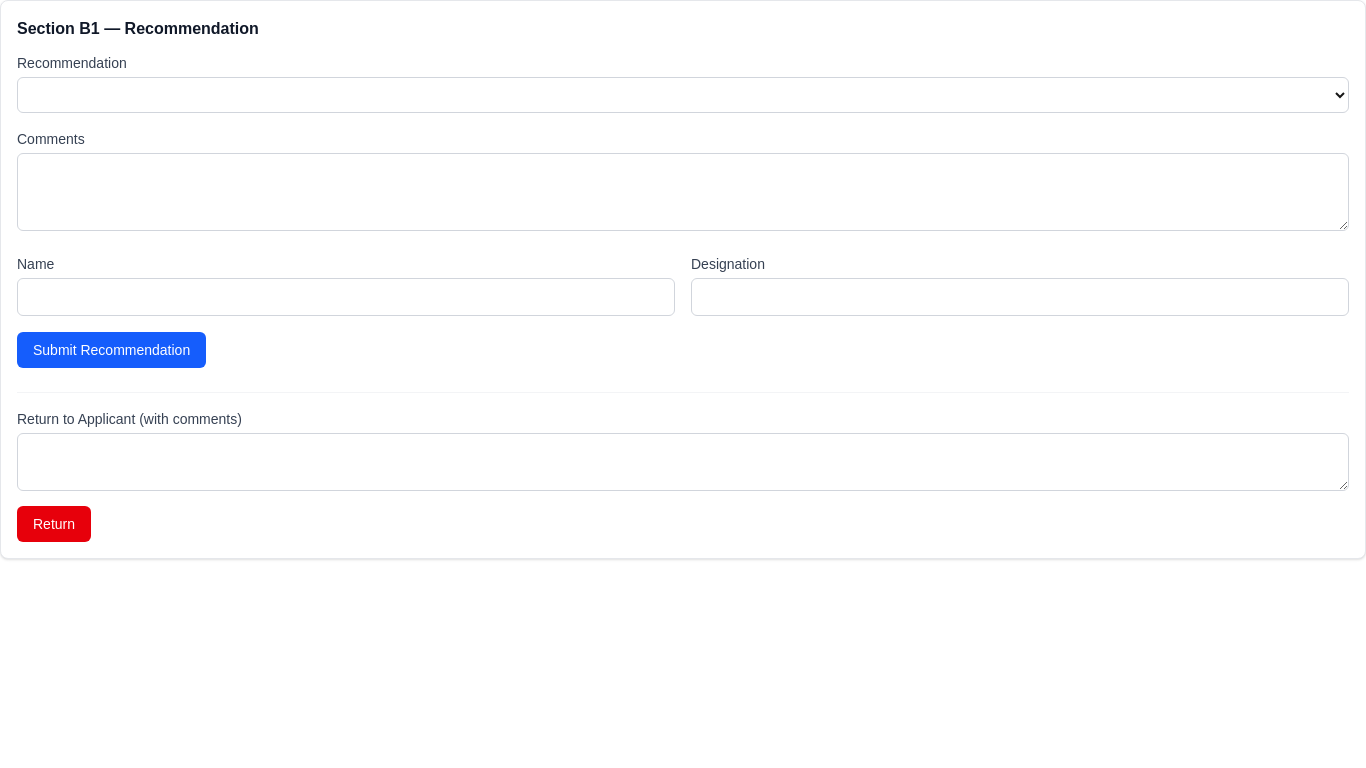
Scenario: HodRecommendationForm › shows a visible error message instead of crashing when the recommend request is rejected (e.g. 403 not routed to this HOD)
Select "Recommend" in the dropdown labelled "Recommendation" at (683,95), box [17,77,1349,113]
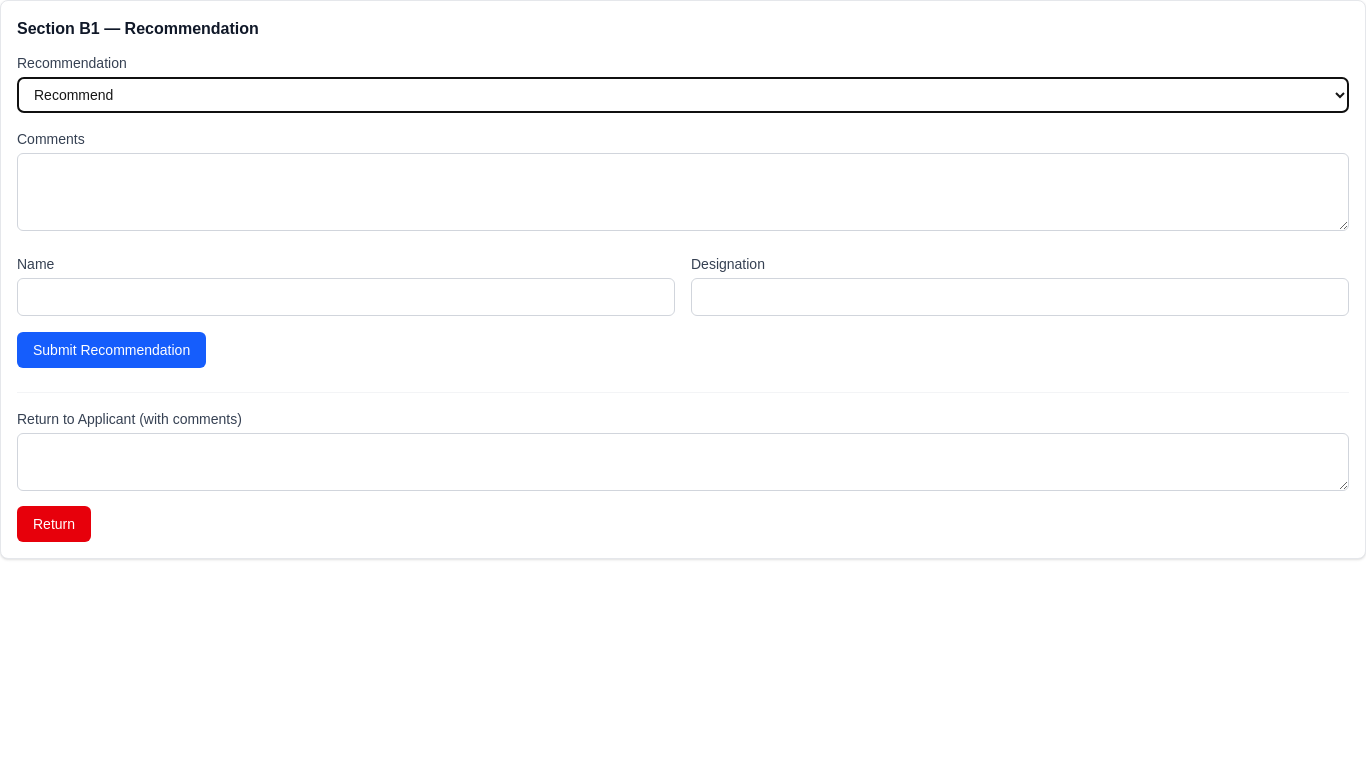
Type "Jane Manager" into the field labelled "Name" at (346,297), box [17,278,675,316]
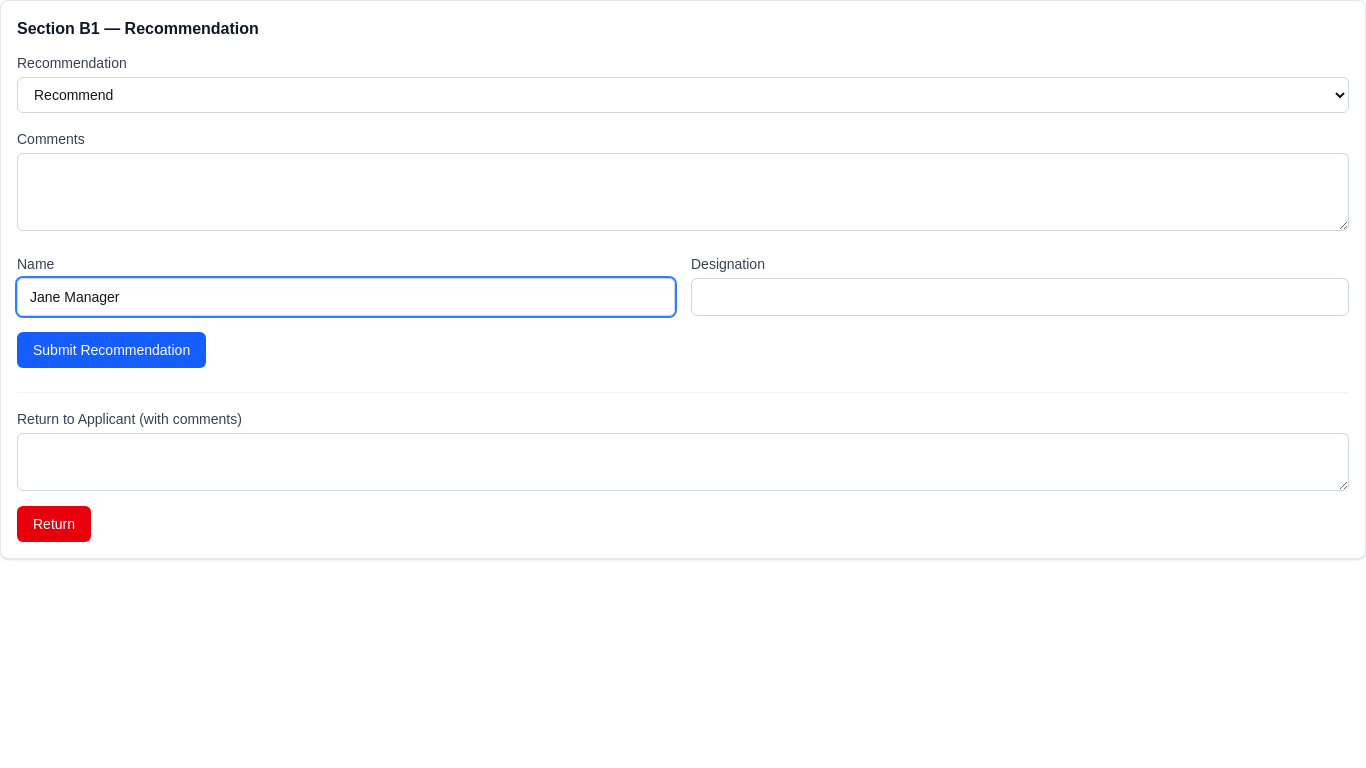
Type "HOD" into the field labelled "Designation" at (1020,297), box [691,278,1349,316]
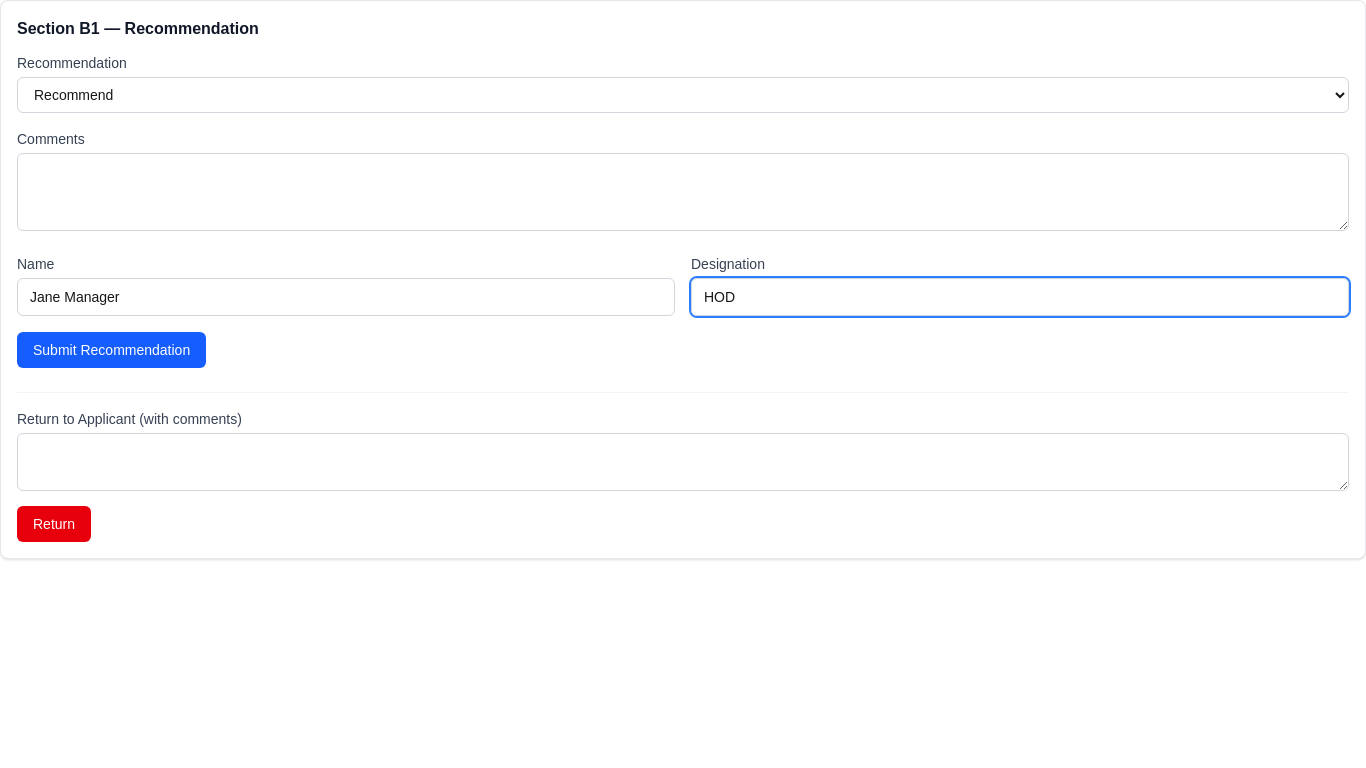
Click the button "Submit Recommendation" at (112,350), box [17,332,206,368]
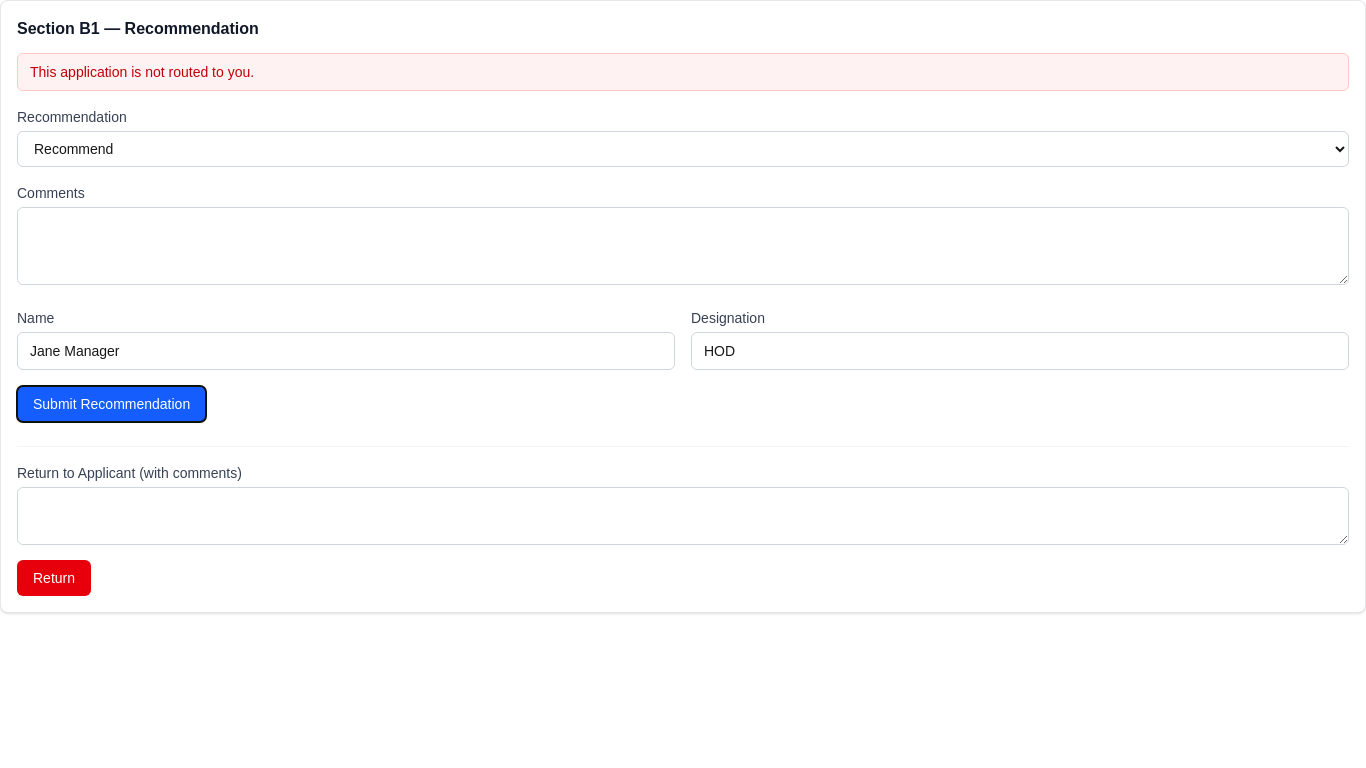
Expected: the text "This application is not routed to you." is shown, [17,53,1349,91]
